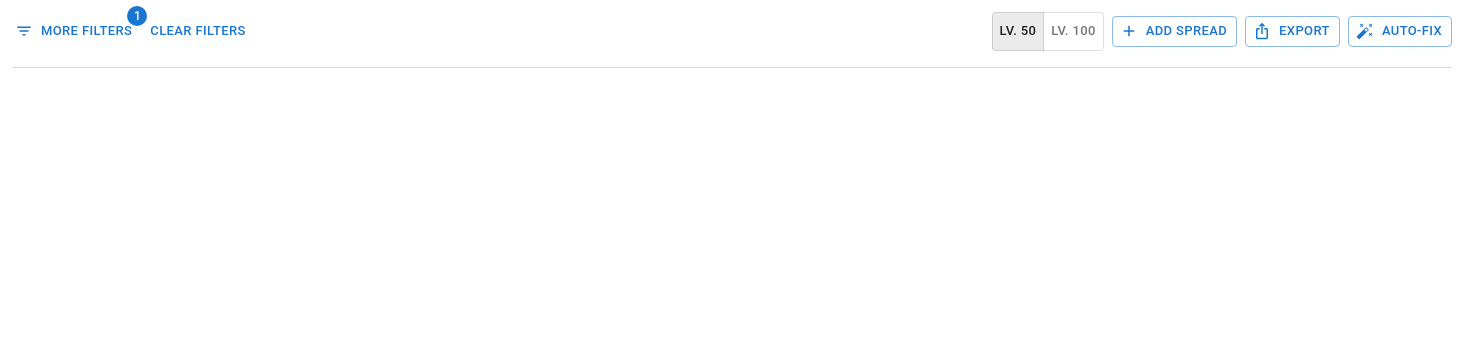
Test: Spread filters › shows the trainer section in the selected value but not in unique option rows and clears the set on trainer change
This screenshot has width=1464, height=350.
Click the button "More Filters".
click(75, 31)  # box [12,16,137,47]
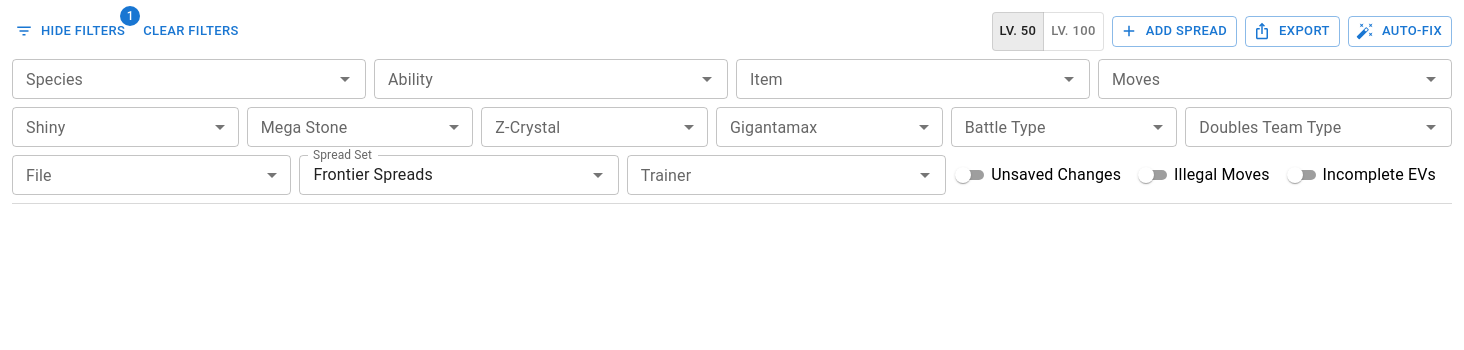
Click the dropdown labelled "Trainer".
click(770, 175)  # box [633,161,907,189]
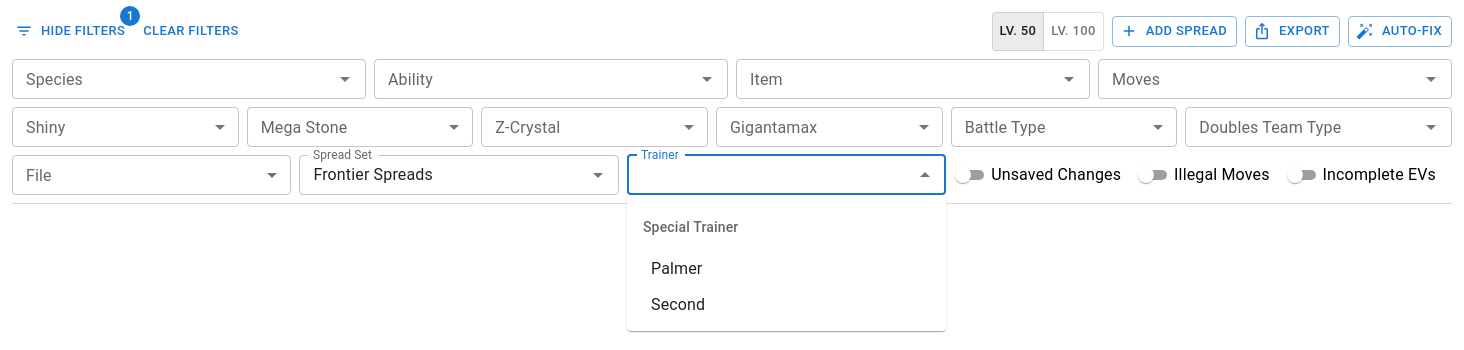
Click the option "Second".
click(678, 304)  # box [651,295,705,314]
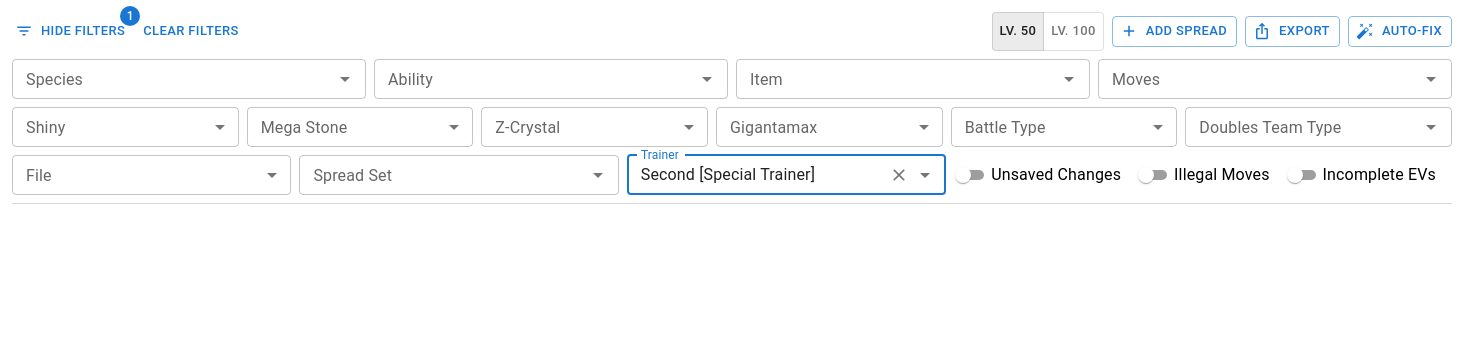
Result: the dropdown labelled "Trainer" holds "Second [Special Trainer]" at [633,161,881,189]
Result: the dropdown labelled "Spread Set" is empty at [305,161,580,189]
